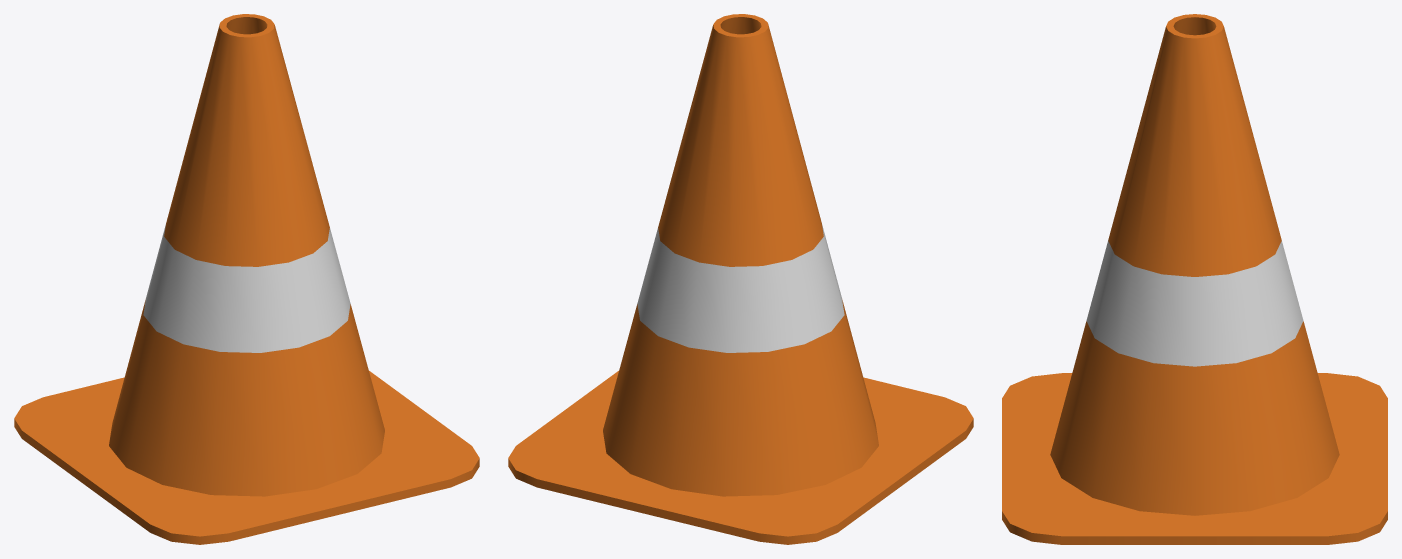
File: traffic_cone.fbx
3 renders of one model, left to right at view 1: azimuth 30°, elevation 25°; view 2: azimuth 150°, elevation 25°; view 3: azimuth 270°, elevation 25°, orthographic. The views are drawn at different scales.
Visible parts, largest first — view 1: traffic_cone; view 2: traffic_cone; view 3: traffic_cone.
Part boxes in pixels (bbox=[...]): traffic_cone: bbox=[14, 14, 479, 544]; traffic_cone: bbox=[508, 14, 973, 544]; traffic_cone: bbox=[1002, 14, 1387, 544].
Bounding box in the file's own units: 80 × 100 × 80.
